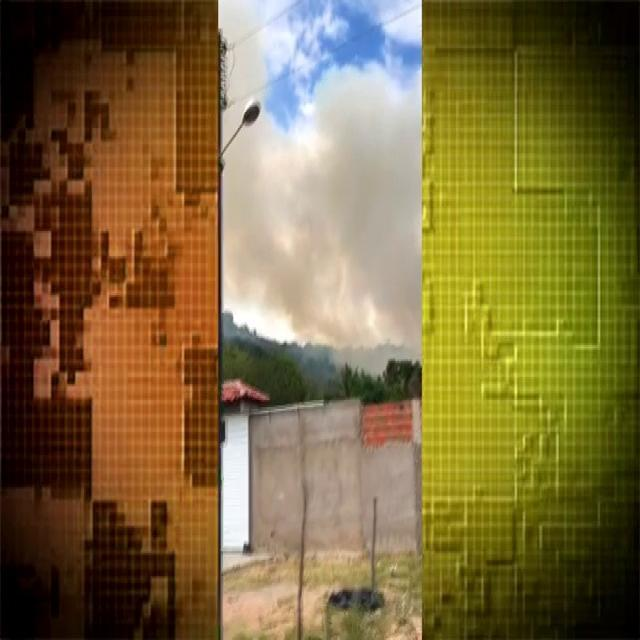Smoke: (218, 12, 441, 377)
